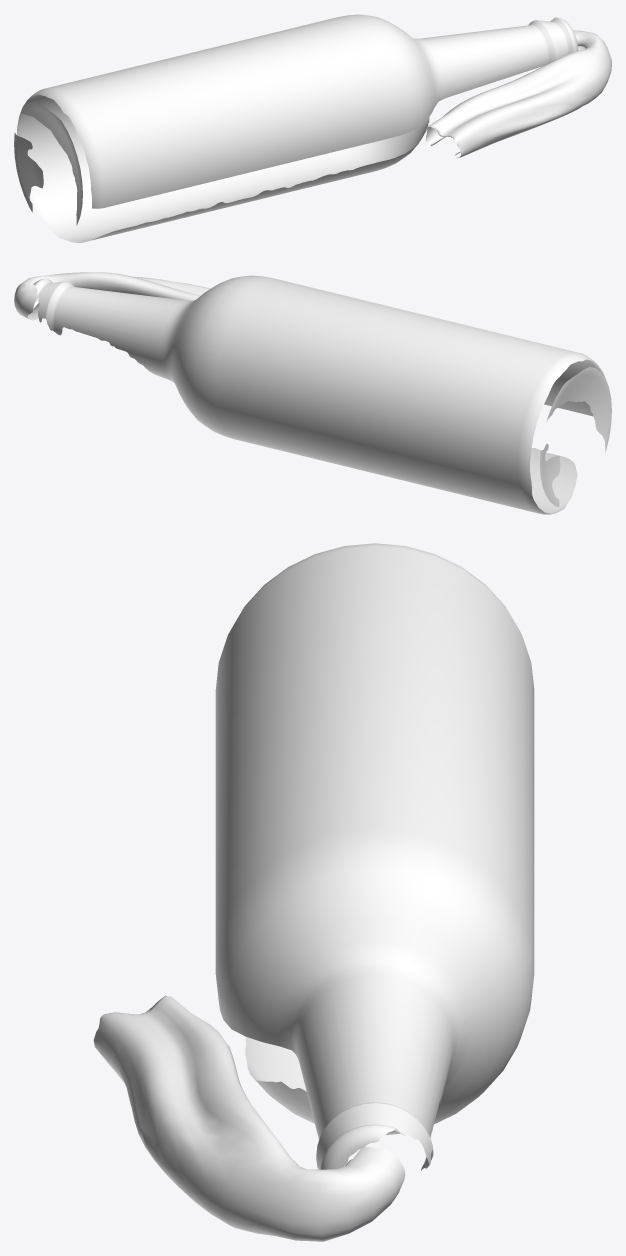
Rendered from motolov2.FBX.
The picture shows the model from 3 angles, top to bottom: view 1: azimuth 30°, elevation 25°; view 2: azimuth 150°, elevation 25°; view 3: azimuth 270°, elevation 25°; orthographic projection. The views are drawn at different scales.
Parts seen in each view (by area): view 1: Molotov; view 2: Molotov; view 3: Molotov.
Boxes of the visible parts, bbox=[...] form: Molotov: bbox=[14, 14, 611, 242]; Molotov: bbox=[14, 272, 611, 514]; Molotov: bbox=[93, 543, 534, 1241].
Size of the model in its own units: 13.67 by 3.45 by 4.8.
